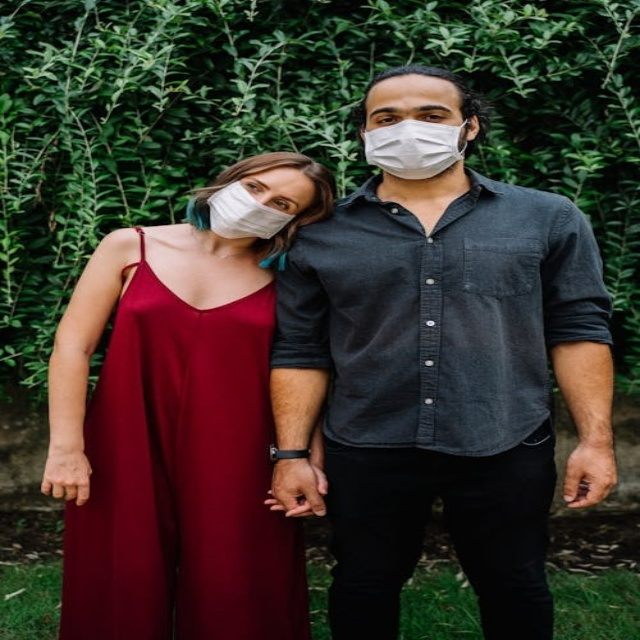Mascara: (362, 117, 468, 178), (204, 181, 297, 240)
Sin_gafas: (241, 173, 306, 213), (364, 102, 460, 125)
Sin_guantes: (255, 457, 335, 522), (557, 440, 625, 512), (33, 440, 99, 506)
